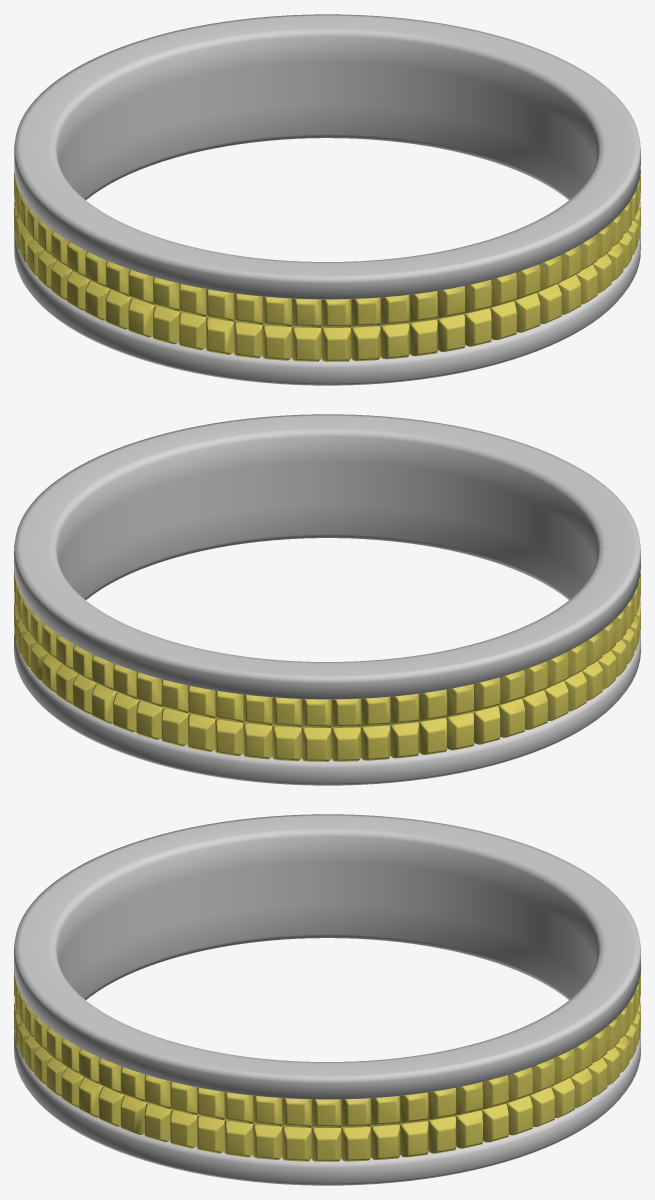
3 views of the same model, one above another, from view 1: azimuth 30°, elevation 25°; view 2: azimuth 150°, elevation 25°; view 3: azimuth 270°, elevation 25° (orthographic).
Visible parts, largest first — view 1: Base_Metal, Engraving_Metal, Finishing_Metal; view 2: Base_Metal, Engraving_Metal, Finishing_Metal; view 3: Base_Metal, Engraving_Metal, Finishing_Metal.
Boxes of the visible parts, x1,y1,x2,y2 form: Base_Metal: (14, 14, 640, 385); Engraving_Metal: (57, 36, 597, 198); Finishing_Metal: (14, 171, 640, 361); Base_Metal: (14, 414, 640, 785); Engraving_Metal: (57, 436, 597, 598); Finishing_Metal: (14, 570, 640, 761); Base_Metal: (14, 814, 640, 1185); Engraving_Metal: (57, 836, 597, 998); Finishing_Metal: (14, 969, 640, 1161).
Size of the model in its own units: 1.99 by 0.3798 by 1.99.
